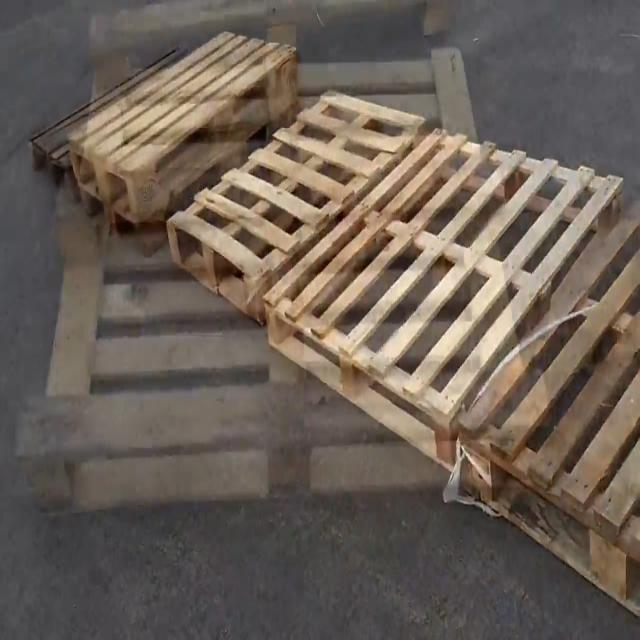Palette: (262, 116, 628, 463), (452, 191, 640, 639), (137, 90, 436, 317), (24, 4, 301, 221)
